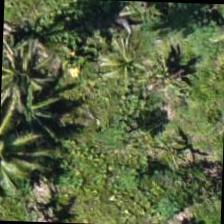Kelapa_Sawit: (81, 21, 174, 114), (0, 35, 65, 128)
